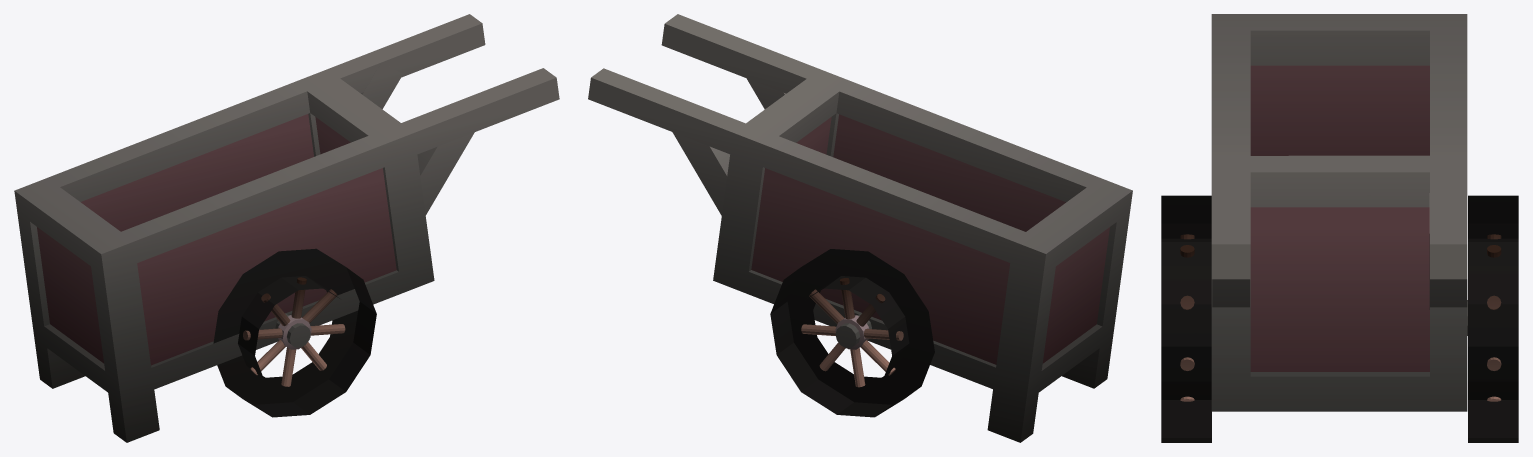
Rendered from Gerobak .fbx.
3 views of the same model, side by side, from view 1: azimuth 30°, elevation 25°; view 2: azimuth 150°, elevation 25°; view 3: azimuth 270°, elevation 25° (orthographic). The views are drawn at different scales.
Parts seen in each view (by area): view 1: Cube.001, Cube, Cylinder, Cube.002, Cylinder.002; view 2: Cube.001, Cube, Cylinder.001, Cylinder.003, Cube.002, Cylinder.006; view 3: Cube.001, Cube, Cylinder, Cylinder.001, Cube.002, Cylinder.003, Cylinder.002.
Part boxes in pixels (x1,y1,x2,y2): Cube.001: (14, 14, 559, 442); Cube: (37, 114, 396, 365); Cylinder: (213, 248, 376, 417); Cube.002: (361, 62, 474, 215); Cylinder.002: (243, 277, 345, 386); Cube.001: (588, 14, 1132, 442); Cube: (751, 114, 1109, 364); Cylinder.001: (770, 249, 934, 417); Cylinder.003: (801, 278, 903, 387); Cube.002: (672, 78, 785, 215); Cylinder.006: (835, 313, 871, 348); Cube.001: (1211, 14, 1467, 411); Cube: (1250, 65, 1429, 371); Cylinder: (1161, 195, 1211, 442); Cylinder.001: (1468, 195, 1518, 442); Cube.002: (1212, 193, 1467, 309); Cylinder.003: (1487, 234, 1501, 401); Cylinder.002: (1180, 234, 1194, 401).
Size of the model in its own units: 74.1 by 40.28 by 34.06.
